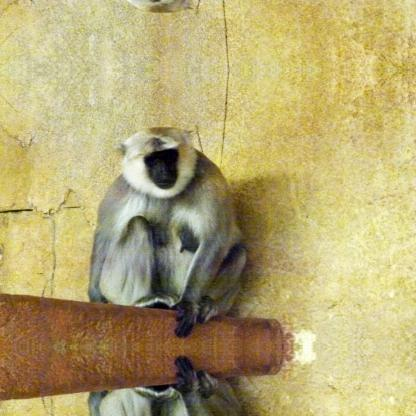Monkey: (88, 126, 250, 336), (87, 356, 251, 415)
